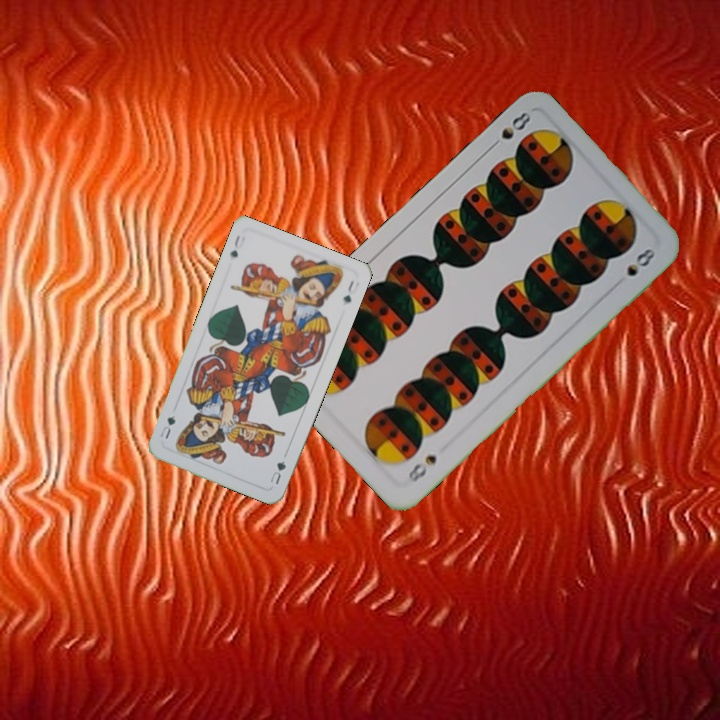GU: (266, 456, 289, 487), (226, 231, 248, 260)
S8: (485, 107, 534, 153), (404, 450, 440, 486)
